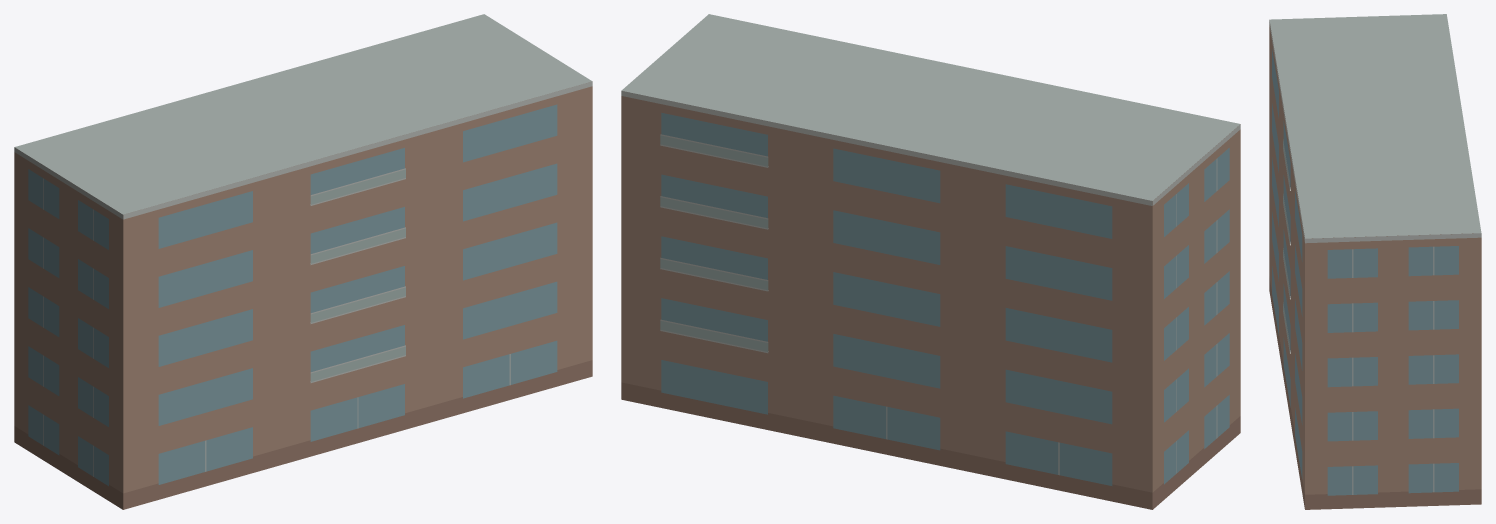
File: survey-upis-32874533.glb
3 views of the same model, side by side, from view 1: azimuth 30°, elevation 25°; view 2: azimuth 150°, elevation 25°; view 3: azimuth 270°, elevation 25° (orthographic). The views are drawn at different scales.
Visible parts, largest first — view 1: survey-upis-32874533.tmp; view 2: survey-upis-32874533.tmp; view 3: survey-upis-32874533.tmp.
Part boxes in pixels (<box>): survey-upis-32874533.tmp: <box>14,14,592,509</box>; survey-upis-32874533.tmp: <box>621,14,1240,509</box>; survey-upis-32874533.tmp: <box>1269,14,1481,509</box>.
Bounding box in the file's own units: 25.94 × 14.6 × 10.35.
